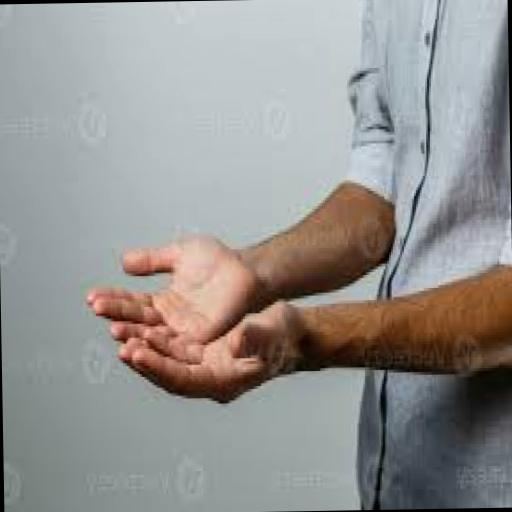Open_Palm: (70, 192, 293, 458)
